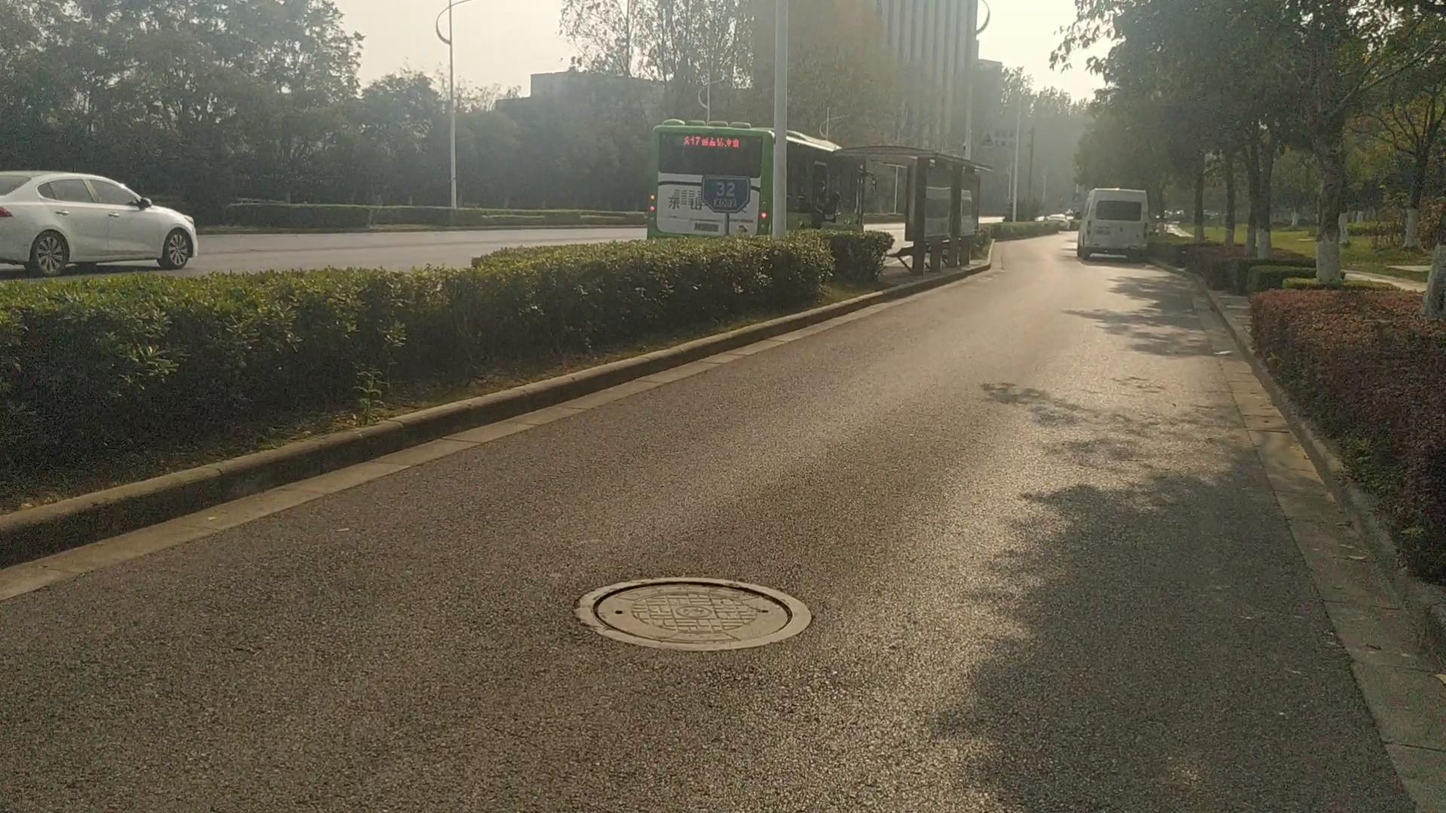car: (1, 172, 197, 276), (1041, 212, 1078, 226)
